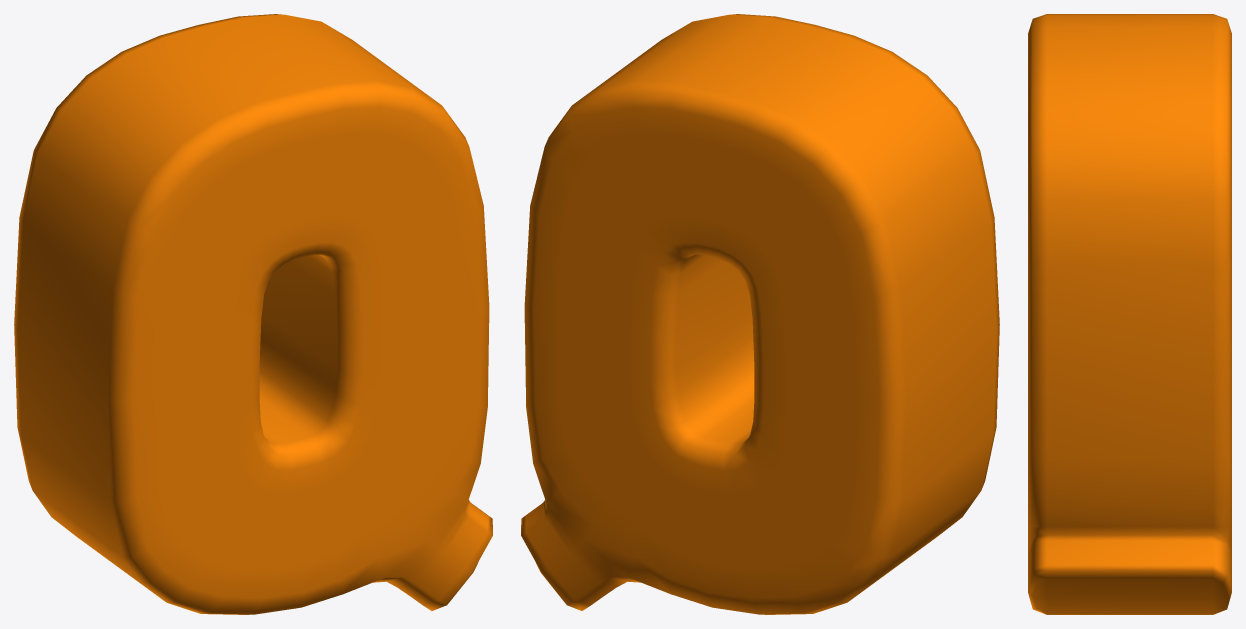
3 renders of one model, left to right at view 1: azimuth 30°, elevation 25°; view 2: azimuth 150°, elevation 25°; view 3: azimuth 270°, elevation 25°, orthographic. The views are drawn at different scales.
Visible parts, largest first — view 1: LETTER_Q; view 2: LETTER_Q; view 3: LETTER_Q.
Part boxes in pixels (x1,y1,x2,y2): LETTER_Q: [14, 14, 492, 614]; LETTER_Q: [521, 14, 999, 614]; LETTER_Q: [1028, 14, 1231, 614].
Bounding box in the file's own units: 0.7296 × 1 × 0.3621.
